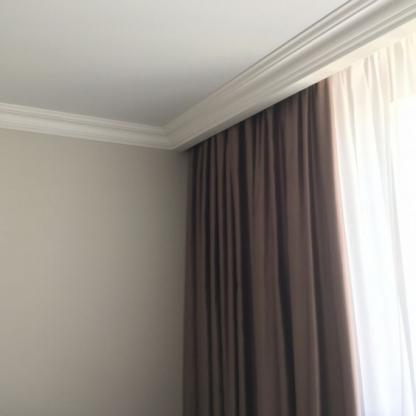Curtains: (181, 23, 416, 416)
